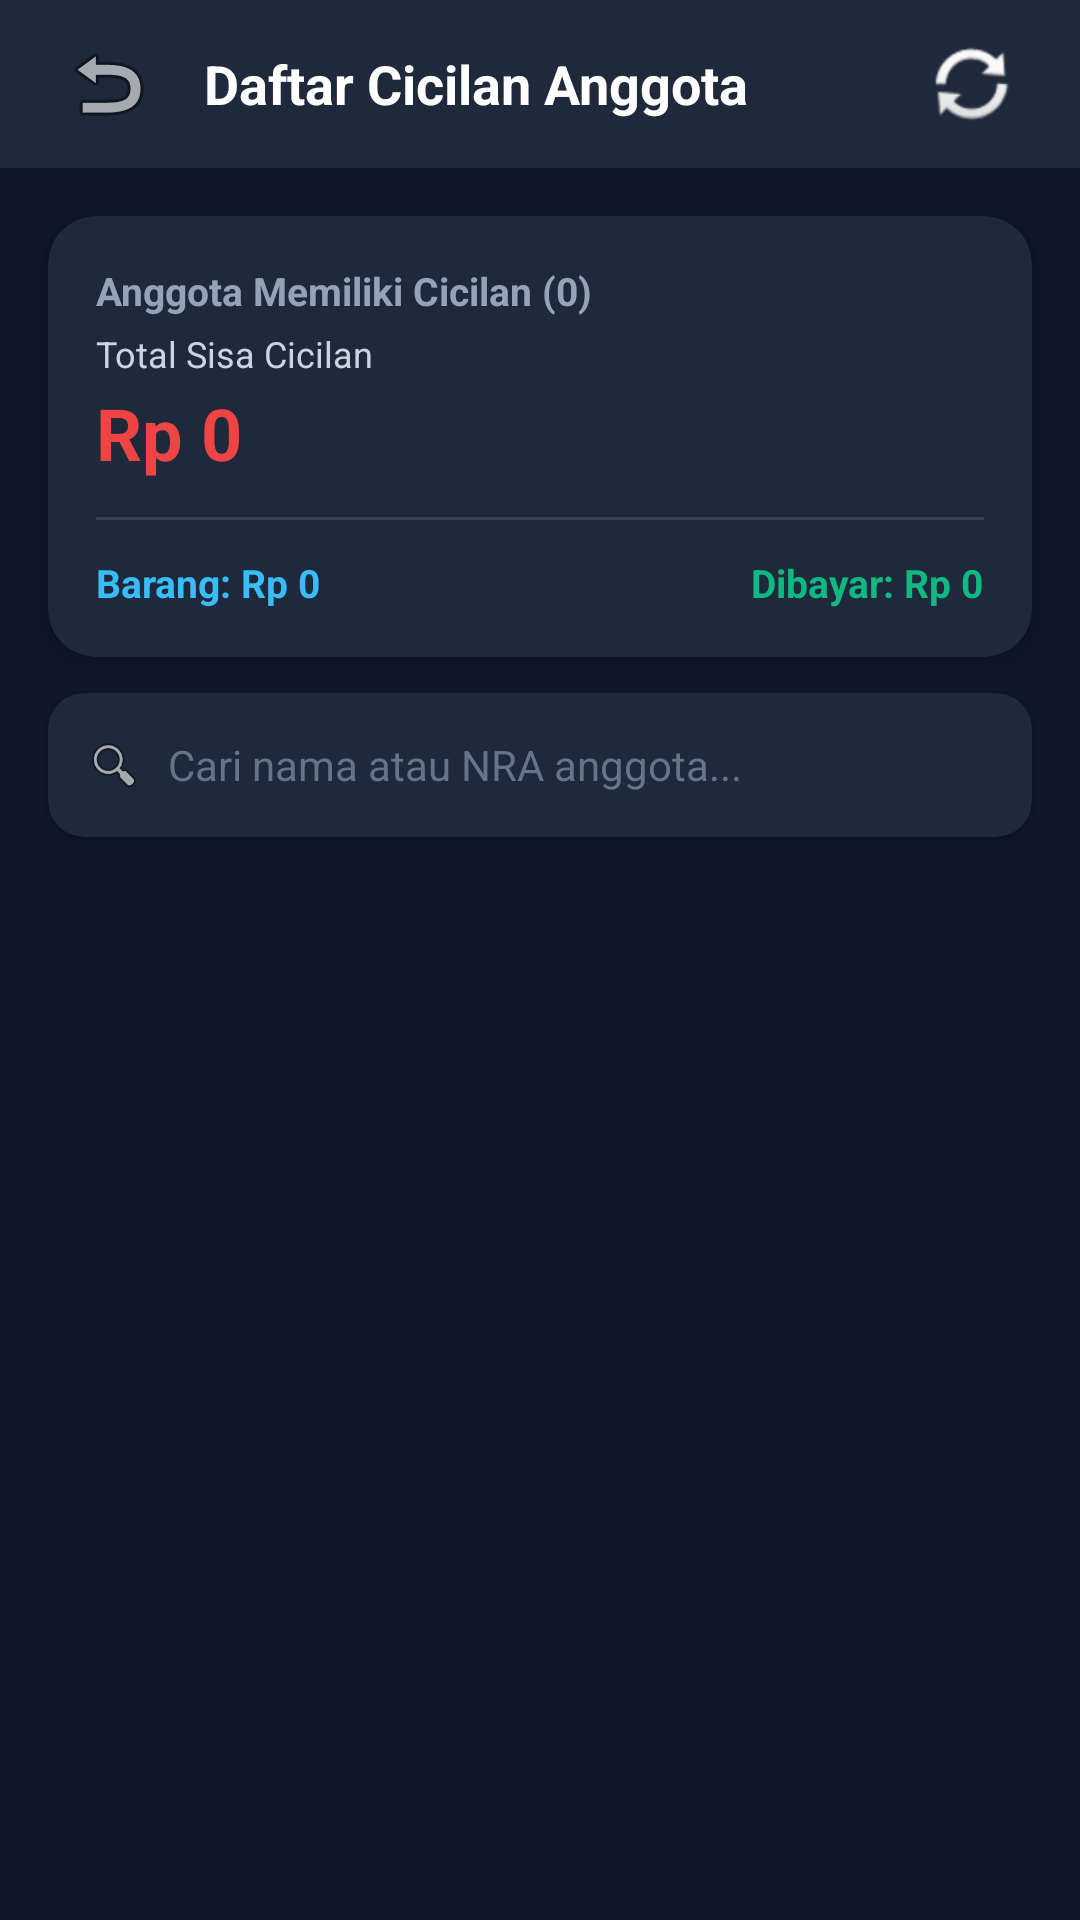

Icon bounding boxes for this 1080*1920 phone screenshot, format detection(x1, y1, x2, y2):
Kembali: detection(76, 55, 142, 114)
Refresh Data: detection(935, 48, 1008, 120)
search: detection(93, 744, 135, 786)
